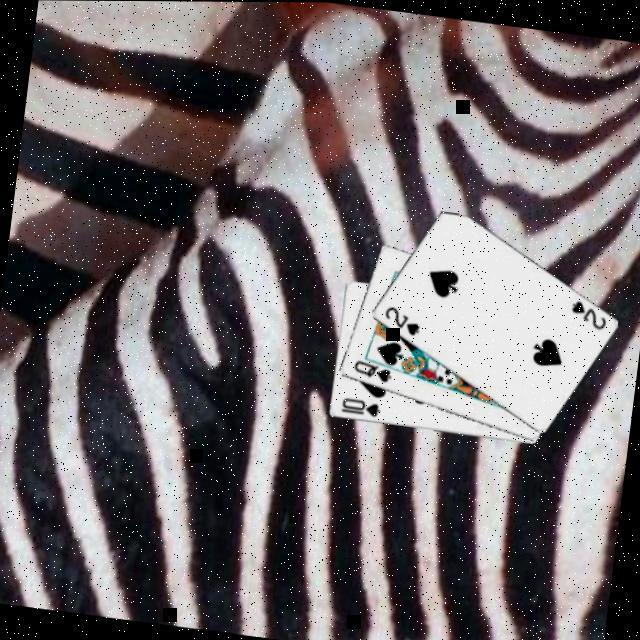10S: (338, 395, 384, 420)
2S: (379, 302, 425, 340), (566, 296, 612, 333)
QS: (349, 357, 396, 386)
